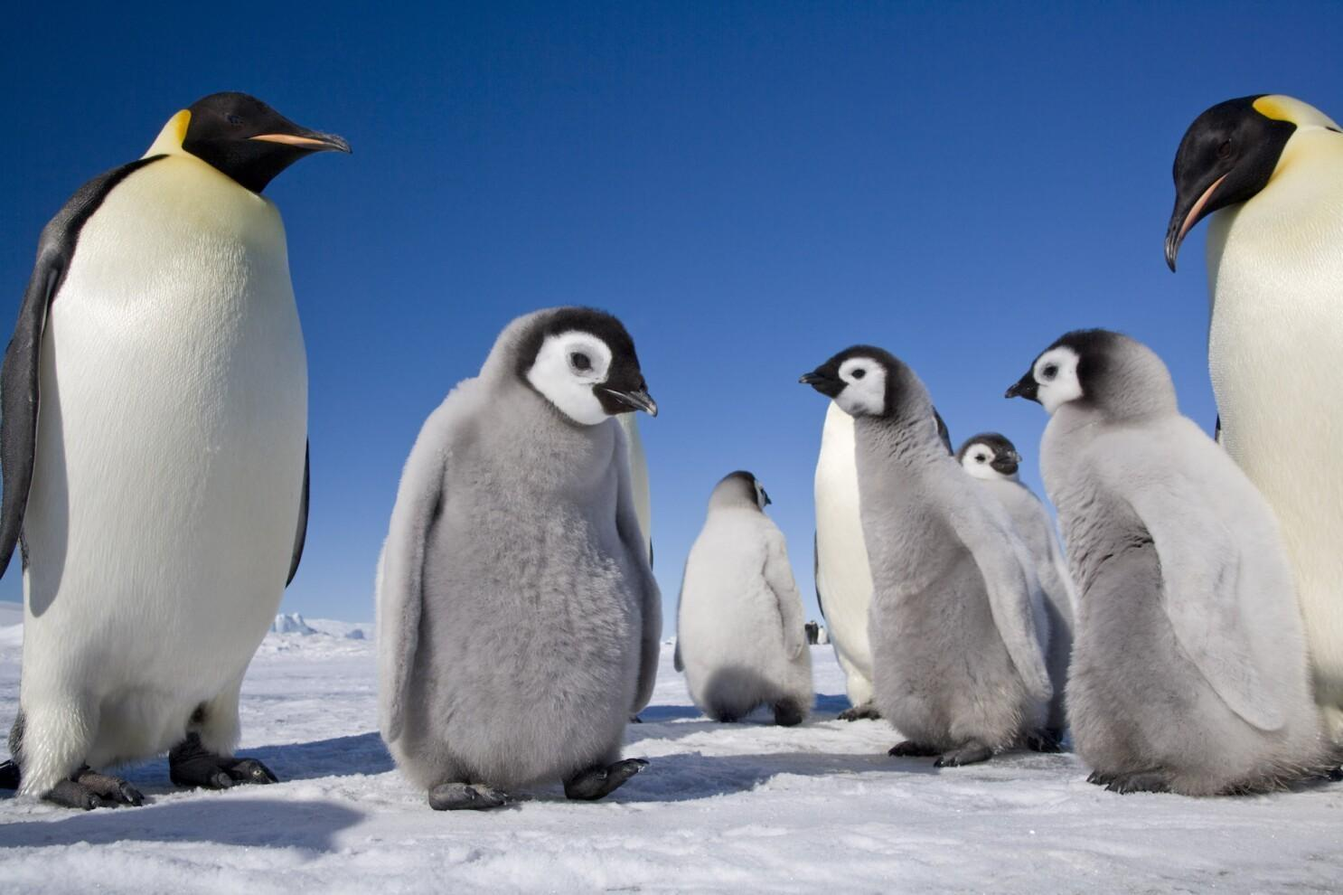Penguin: (0, 92, 349, 808), (1008, 331, 1332, 795), (378, 307, 661, 808), (1165, 94, 1342, 749), (800, 346, 1051, 766), (954, 432, 1076, 753), (674, 470, 812, 724), (813, 400, 881, 720)
